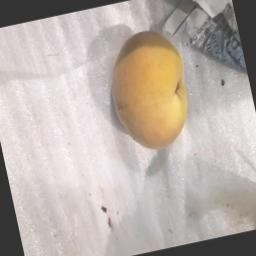Peach Unripe: (98, 23, 204, 168)
